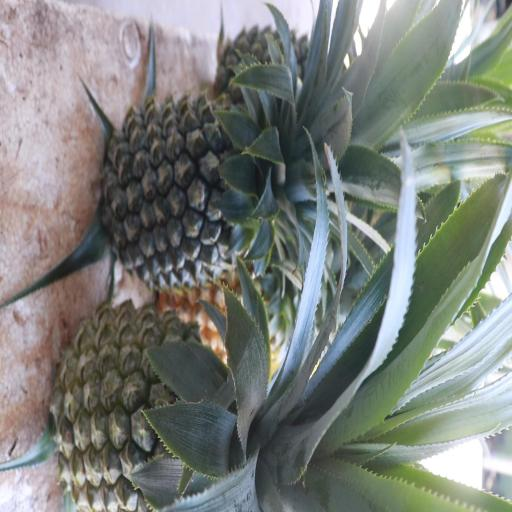------------------------------: (58, 305, 268, 512)
